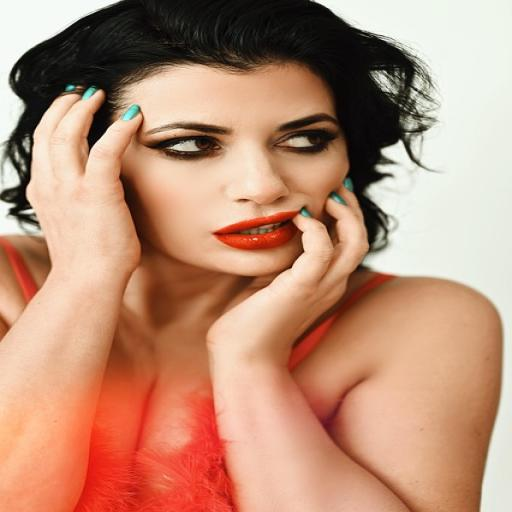lipstick: (214, 211, 298, 250)
